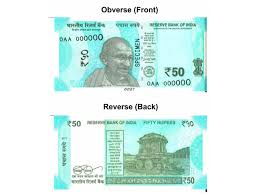fifty: (58, 27, 195, 81)
